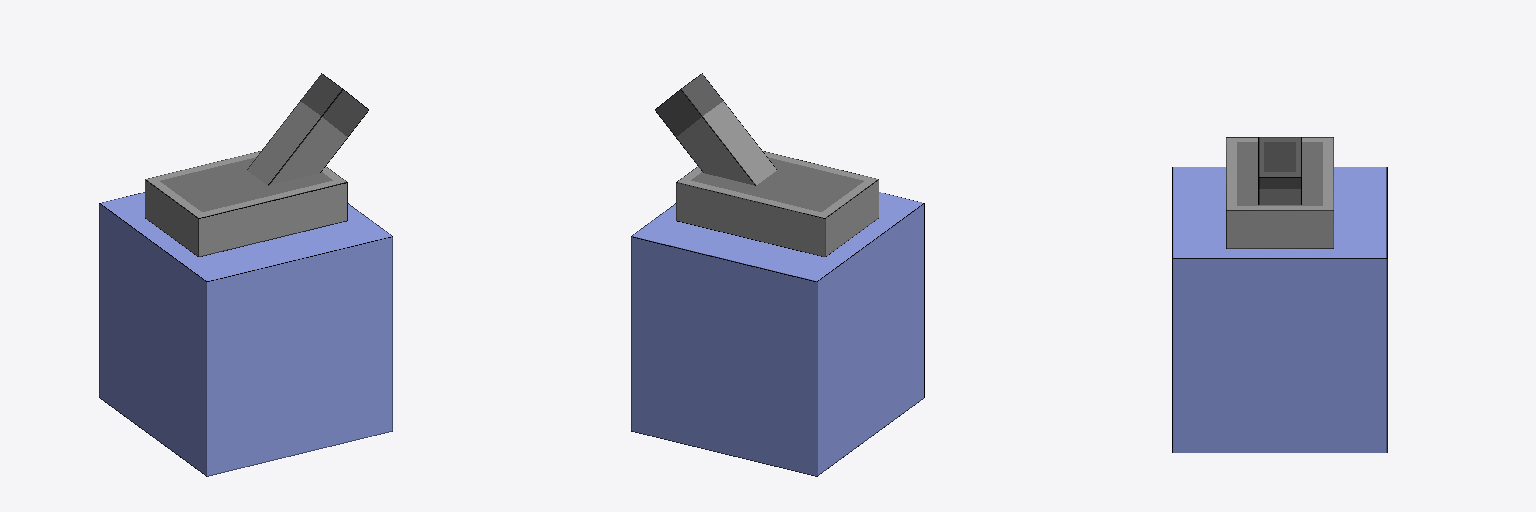
The picture shows the model from 3 angles: view 1: azimuth 30°, elevation 25°; view 2: azimuth 150°, elevation 25°; view 3: azimuth 270°, elevation 25°; orthographic projection.
Visible parts, largest first — view 1: 立方体.002; view 2: 立方体.002; view 3: 立方体.002.
Part boxes in pixels (bbox=[...]): 立方体.002: bbox=[99, 73, 392, 476]; 立方体.002: bbox=[631, 73, 924, 476]; 立方体.002: bbox=[1172, 137, 1387, 452].
Bounding box in the file's own units: 2.21 × 3.21 × 2.
Materials: 1 (1 with a texture image).